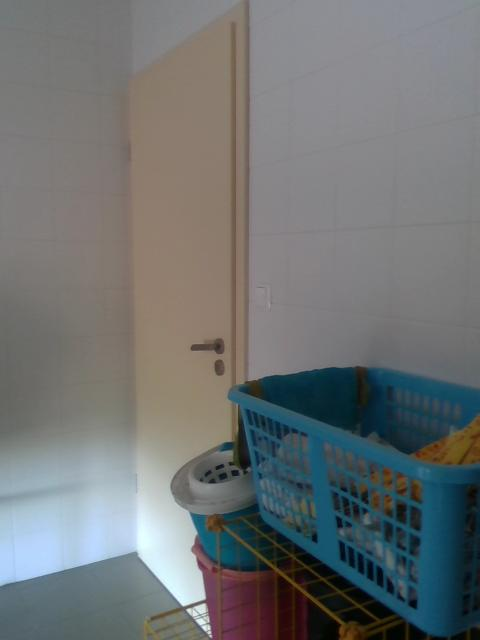door: (127, 20, 234, 633)
